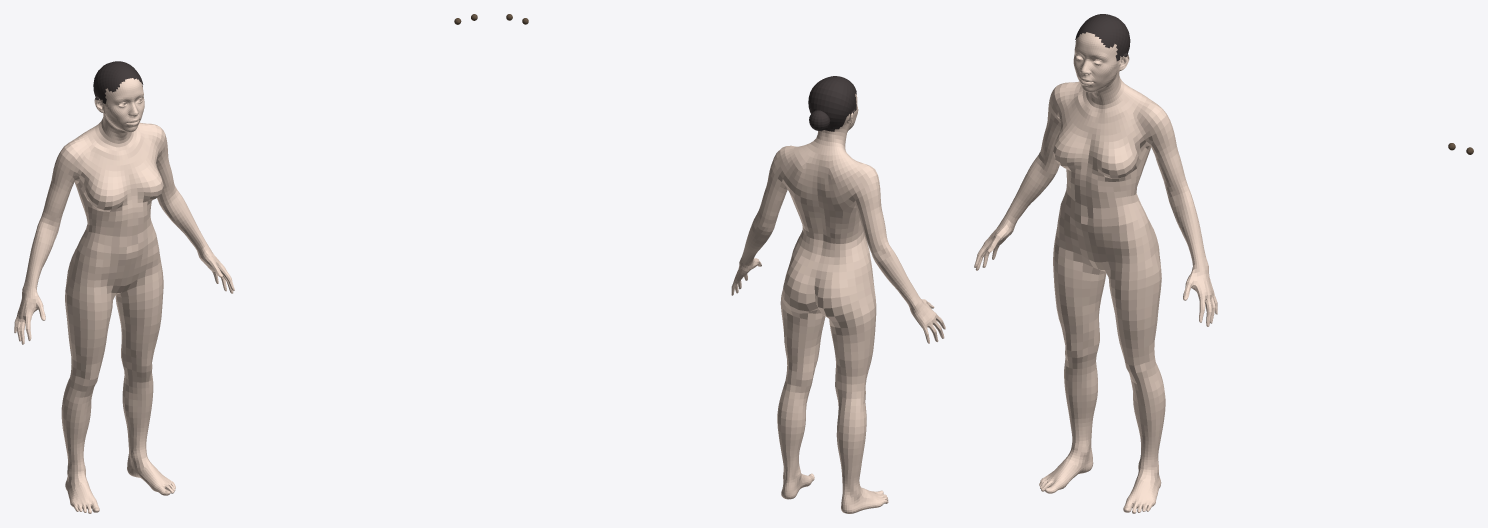
Rendered from avatar_v2.glb.
The picture shows the model from 3 angles, left to right: view 1: azimuth 30°, elevation 25°; view 2: azimuth 150°, elevation 25°; view 3: azimuth 330°, elevation 25°; orthographic projection. The views are drawn at different scales.
Parts seen in each view (by area): view 1: avatar_v2; view 2: avatar_v2; view 3: avatar_v2.
Part boxes in pixels (bbox=[...]): avatar_v2: bbox=[14, 14, 477, 513]; avatar_v2: bbox=[506, 14, 945, 513]; avatar_v2: bbox=[974, 14, 1473, 513].
Bounding box in the file's own units: 1.81 × 1.64 × 0.2826.
